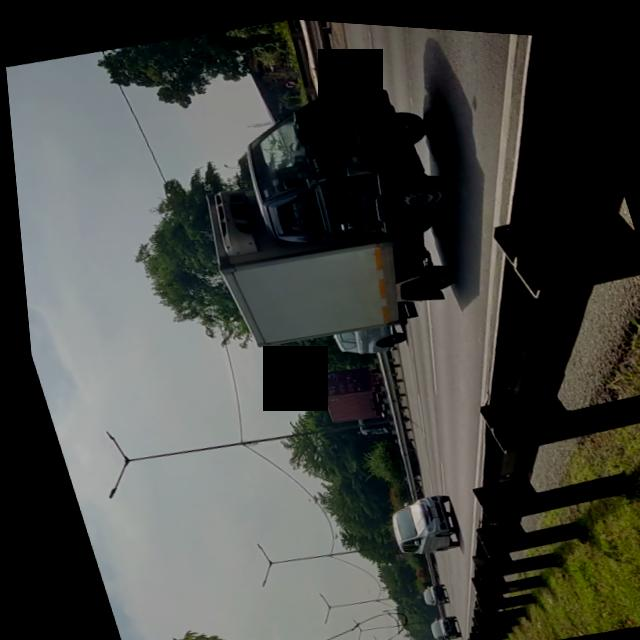Golongan I: (170, 51, 491, 361), (362, 474, 463, 564)
